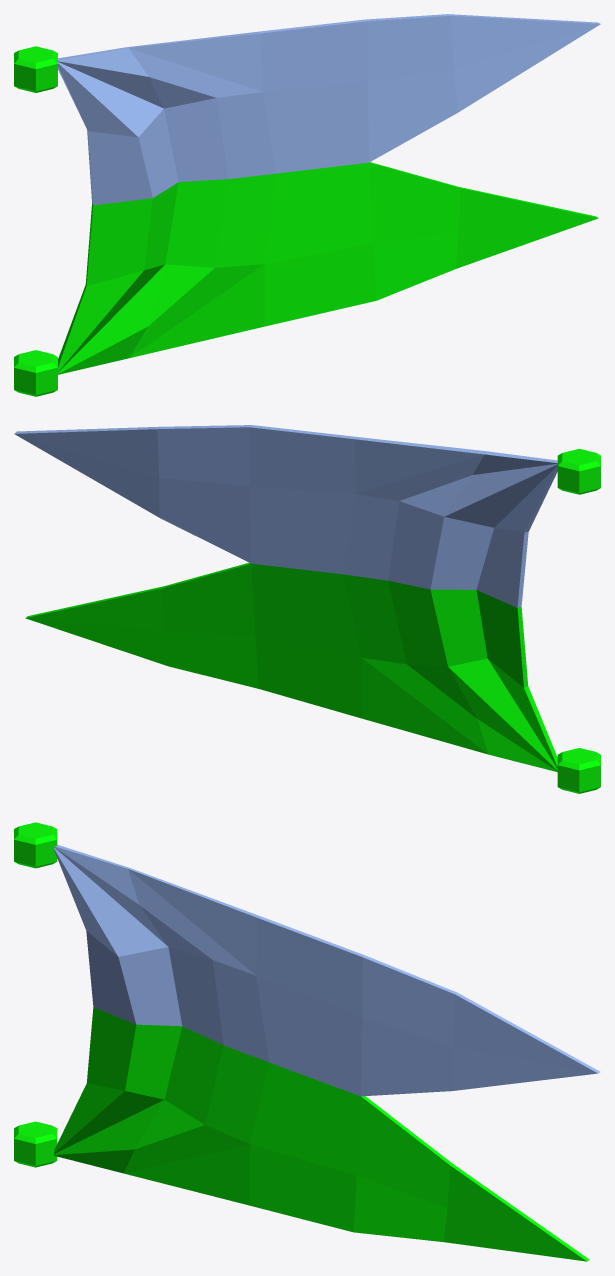
The model's file is SM_Flag_Regular_D_Fantasy.fbx.
3 renders of one model, top to bottom at view 1: azimuth 30°, elevation 25°; view 2: azimuth 150°, elevation 25°; view 3: azimuth 330°, elevation 25°, orthographic.
Parts seen in each view (by area): view 1: flag-regular-d-fantasy; view 2: flag-regular-d-fantasy; view 3: flag-regular-d-fantasy.
Part boxes in pixels (left/top/right/bottom): flag-regular-d-fantasy: left=14, top=14, right=600, bottom=396; flag-regular-d-fantasy: left=14, top=425, right=600, bottom=793; flag-regular-d-fantasy: left=14, top=822, right=600, bottom=1261.
Bounding box in the file's own units: 1.21 × 0.6531 × 0.0777.
